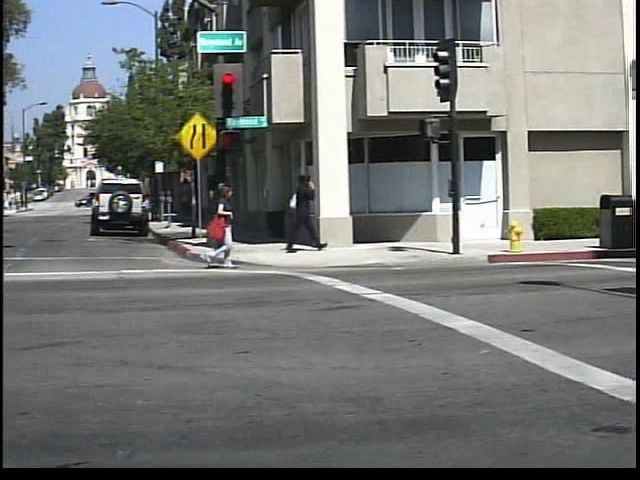person: (205, 178, 255, 269), (291, 168, 333, 254)
